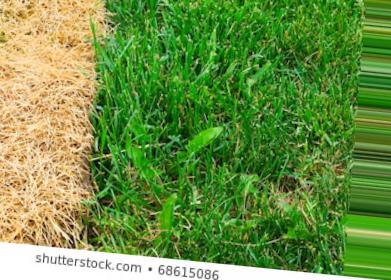patch: (6, 4, 85, 237)
